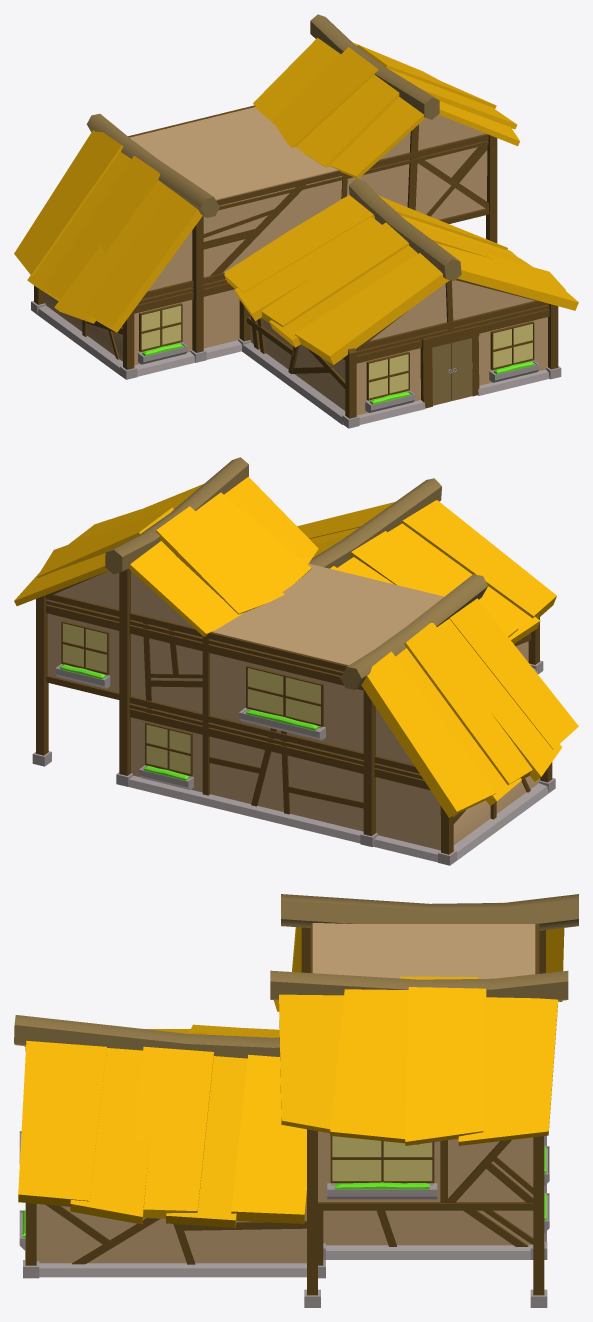
Rendered from Modular_Houses_House_5.fbx.
3 views of the same model, one above another, from view 1: azimuth 30°, elevation 25°; view 2: azimuth 150°, elevation 25°; view 3: azimuth 270°, elevation 25° (orthographic). The views are drawn at different scales.
Visible parts, largest first — view 1: House_5; view 2: House_5; view 3: House_5.
Boxes of the visible parts, bbox=[...] form: House_5: bbox=[14, 14, 578, 428]; House_5: bbox=[14, 457, 578, 865]; House_5: bbox=[14, 894, 578, 1307].
Bounding box in the file's own units: 18.4 × 8.73 × 15.63.
Materials: 1 (1 with a texture image).
